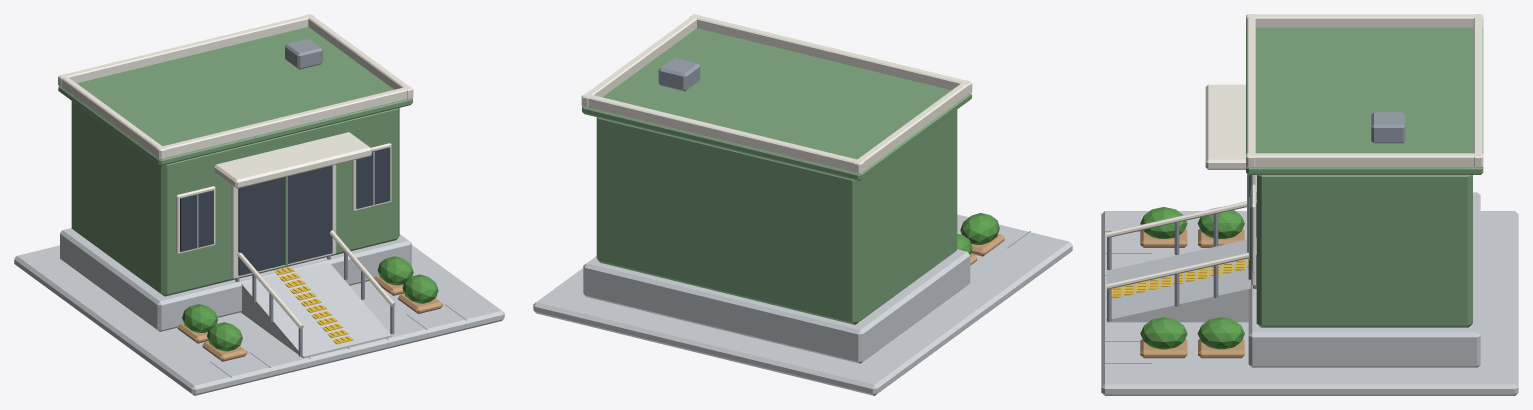
File: accessibility.glb
The picture shows the model from 3 angles, left to right: view 1: azimuth 30°, elevation 25°; view 2: azimuth 150°, elevation 25°; view 3: azimuth 270°, elevation 25°; orthographic projection. The views are drawn at different scales.
Parts seen in each view (by area): view 1: accessibility; view 2: accessibility; view 3: accessibility.
Part boxes in pixels (left/top/right/bottom): accessibility: left=14, top=14, right=504, bottom=395; accessibility: left=533, top=14, right=1072, bottom=395; accessibility: left=1101, top=14, right=1518, bottom=395.
Size of the model in its own units: 8 by 4.97 by 8.
Materials: 1 (1 with a texture image).
